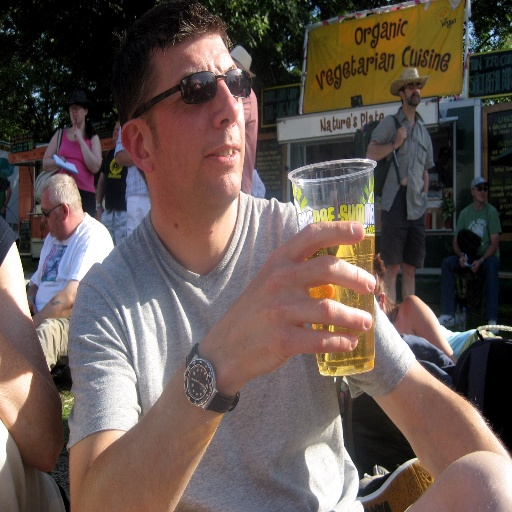hand: (223, 218, 375, 372), (395, 125, 408, 149), (28, 299, 38, 315), (96, 204, 104, 222), (470, 261, 480, 275), (58, 154, 66, 171), (73, 126, 82, 140), (458, 254, 467, 268)
